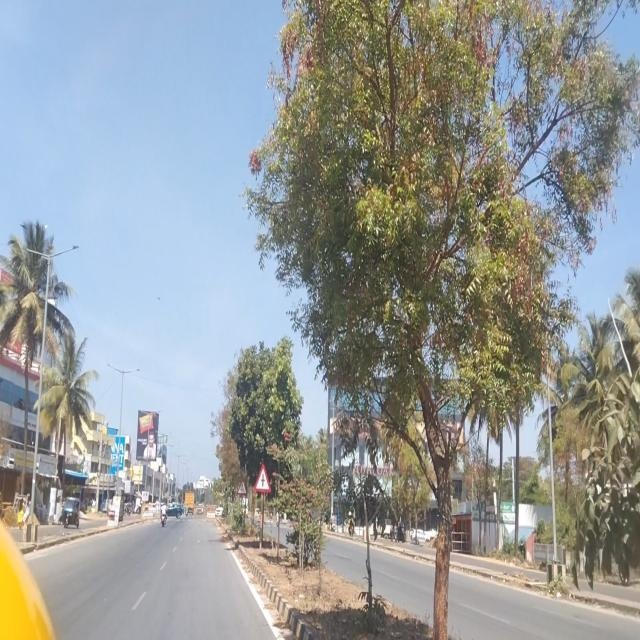bien_nguy_hiem: (253, 463, 271, 492)
